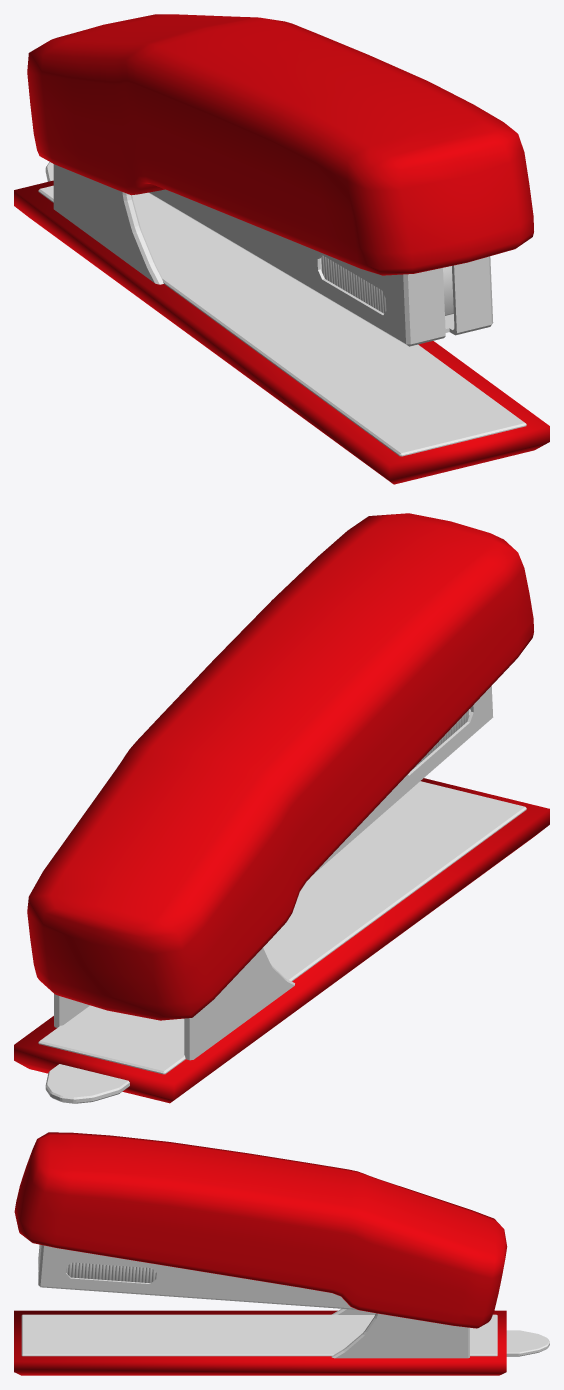
The model's file is stapler_n.glb.
3 renders of one model, top to bottom at view 1: azimuth 30°, elevation 25°; view 2: azimuth 150°, elevation 25°; view 3: azimuth 270°, elevation 25°, orthographic. The views are drawn at different scales.
Parts seen in each view (by area): view 1: 立方体.055; view 2: 立方体.055; view 3: 立方体.055.
Boxes of the visible parts, box(x1,y1,x2,y2) form: 立方体.055: box(14, 14, 549, 484); 立方体.055: box(14, 513, 549, 1103); 立方体.055: box(14, 1132, 549, 1375).
Bounding box in the file's own units: 1.43 × 2.6 × 6.23.
